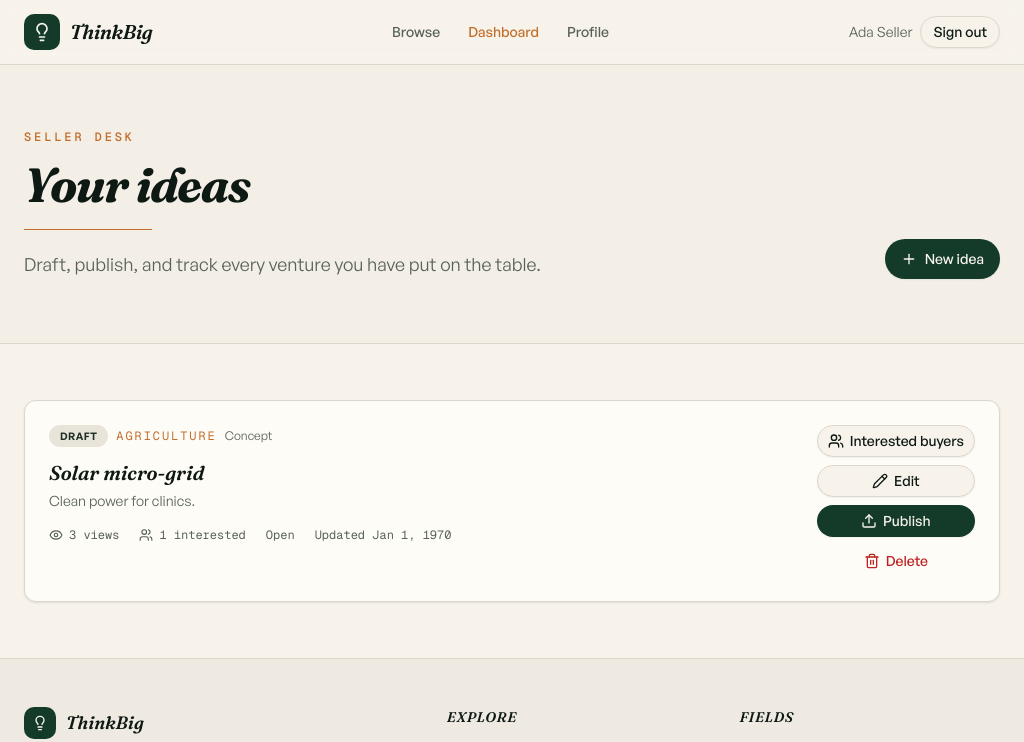
Scenario: DashboardPage › shows the interested buyers with their profile and message
This screenshot has width=1024, height=742.
Expected: the heading "Solar micro-grid" is shown, [49, 460, 204, 485]
Click the button with test id "dashboard.interested_button.1": (896, 441) [817, 425, 975, 457]
(page scrolled)
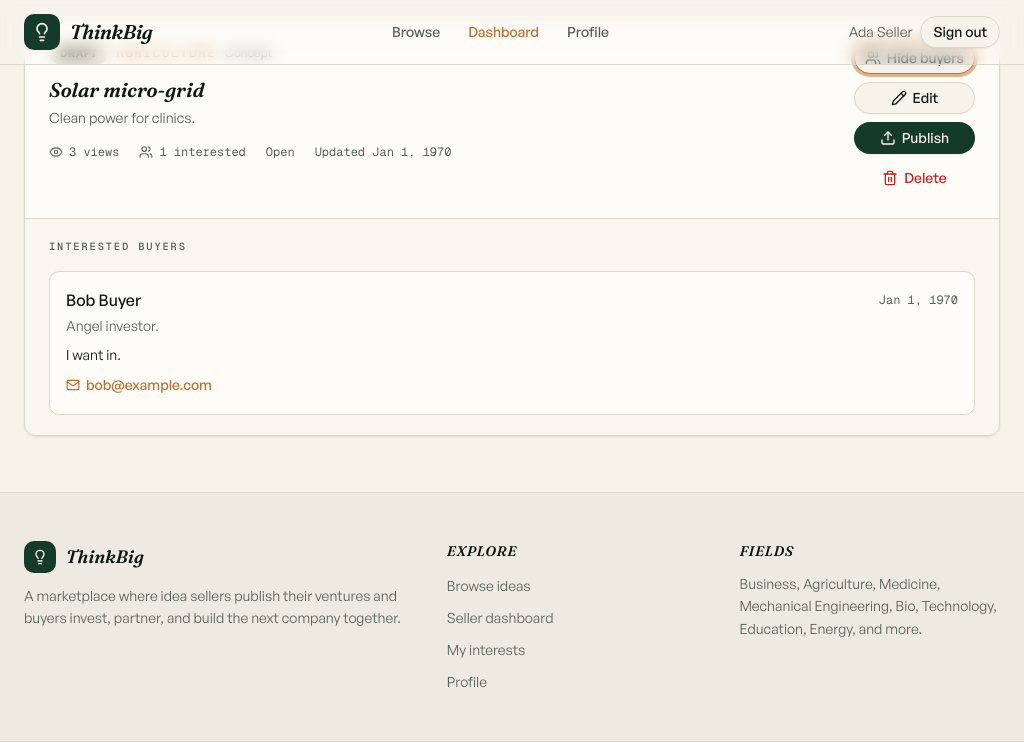
Result: the text "Bob Buyer" is shown at [66, 288, 141, 312]
Result: the text "Angel investor." is shown at [66, 317, 159, 334]
Result: the text "I want in." is shown at [66, 346, 121, 363]
